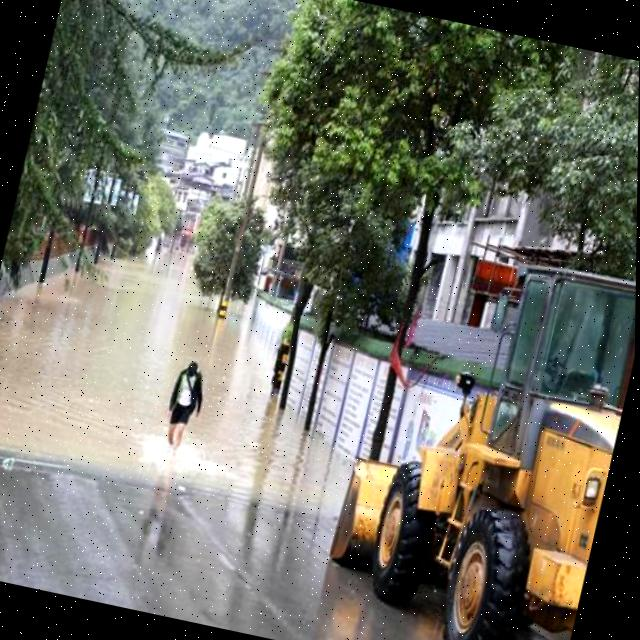civilian: (126, 339, 235, 486)
